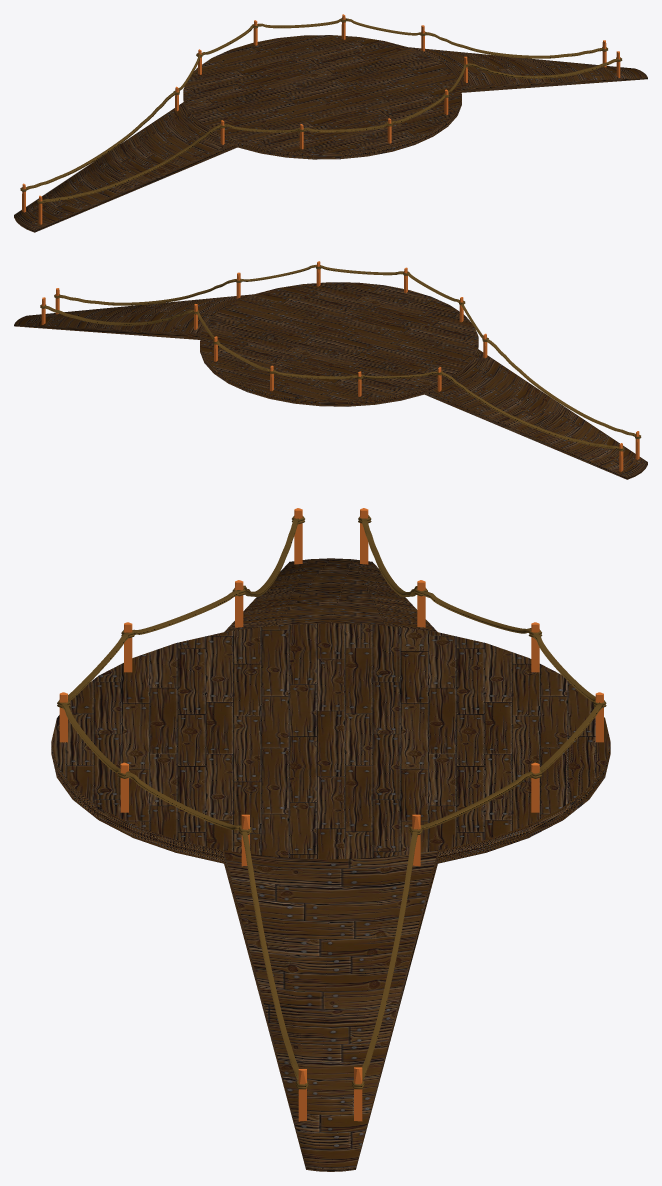
The model's file is arenaBrigdeWood.fbx.
The picture shows the model from 3 angles, top to bottom: view 1: azimuth 30°, elevation 25°; view 2: azimuth 150°, elevation 25°; view 3: azimuth 270°, elevation 25°; orthographic projection. The views are drawn at different scales.
Parts seen in each view (by area): view 1: Ground, Rope, Poles; view 2: Ground, Rope, Poles; view 3: Ground, Rope, Poles.
Boxes of the visible parts, x1,y1,x2,y2 form: Ground: (14,35,647,232); Rope: (26,18,617,202); Poles: (22,14,620,224); Ground: (14,282,647,479); Rope: (44,265,635,449); Poles: (41,261,639,471); Ground: (51,558,610,1171); Rope: (62,518,603,1080); Poles: (59,508,603,1121).
Size of the model in its own units: 48.03 by 6.08 by 18.66.
